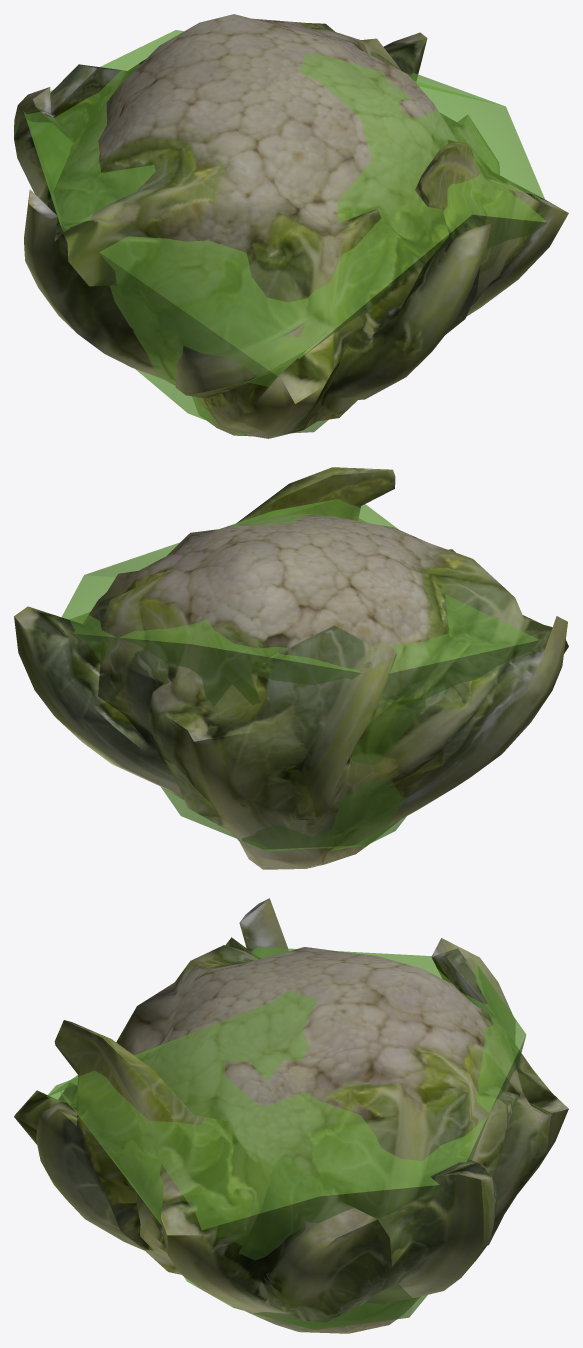
Rendered from pg_Cauliflower_01.fbx.
3 views of the same model, one above another, from view 1: azimuth 30°, elevation 25°; view 2: azimuth 150°, elevation 25°; view 3: azimuth 270°, elevation 25° (orthographic). The views are drawn at different scales.
Visible parts, largest first — view 1: pg_Cauliflower_01_a_LOD0, pg_Cauliflower_01_a_col; view 2: pg_Cauliflower_01_a_LOD0, pg_Cauliflower_01_a_col; view 3: pg_Cauliflower_01_a_LOD0, pg_Cauliflower_01_a_col.
Boxes of the visible parts, box(x1,y1,x2,y2) form: pg_Cauliflower_01_a_LOD0: box(14, 14, 568, 438); pg_Cauliflower_01_a_col: box(23, 30, 547, 435); pg_Cauliflower_01_a_LOD0: box(14, 467, 568, 869); pg_Cauliflower_01_a_col: box(62, 499, 539, 851); pg_Cauliflower_01_a_LOD0: box(14, 898, 568, 1333); pg_Cauliflower_01_a_col: box(47, 947, 526, 1329).
Size of what is drawn, in the model's own units: 25.19 by 16.34 by 23.51.
